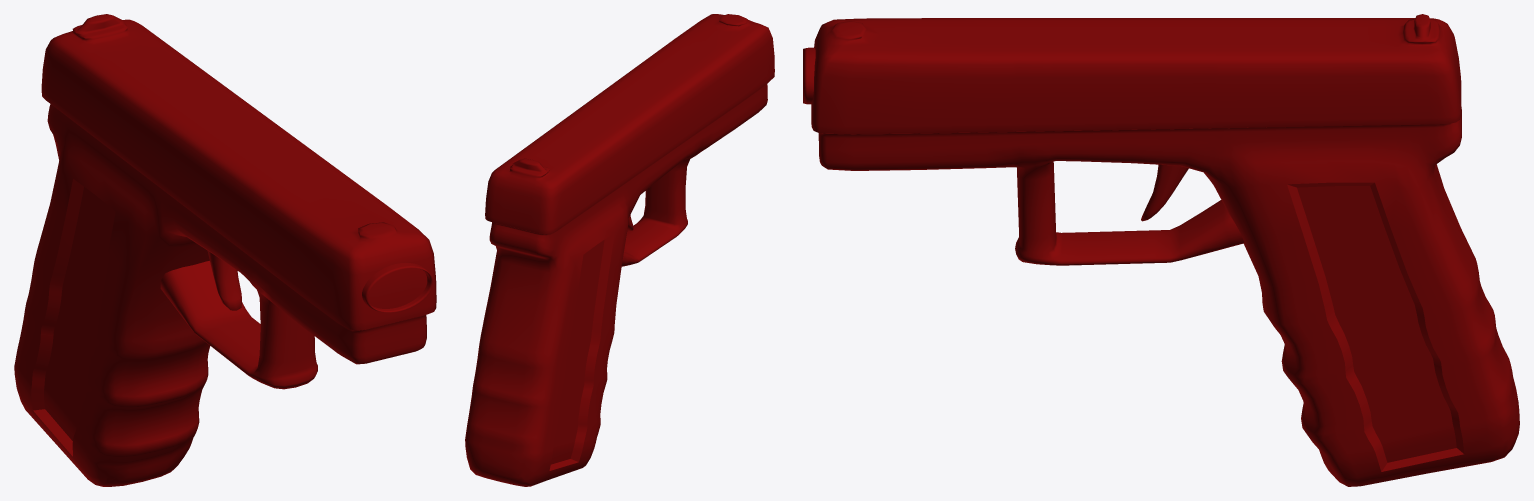
The model's file is PistolRed.fbx.
The picture shows the model from 3 angles, left to right: view 1: azimuth 30°, elevation 25°; view 2: azimuth 150°, elevation 25°; view 3: azimuth 270°, elevation 25°; orthographic projection. The views are drawn at different scales.
Visible parts, largest first — view 1: pCube4; view 2: pCube4; view 3: pCube4.
Part boxes in pixels (box(x1,y1,x2,y2)): pCube4: box(14, 14, 436, 486); pCube4: box(465, 14, 774, 486); pCube4: box(803, 14, 1519, 486).
Bounding box in the file's own units: 1.6 × 6.5 × 9.39.
